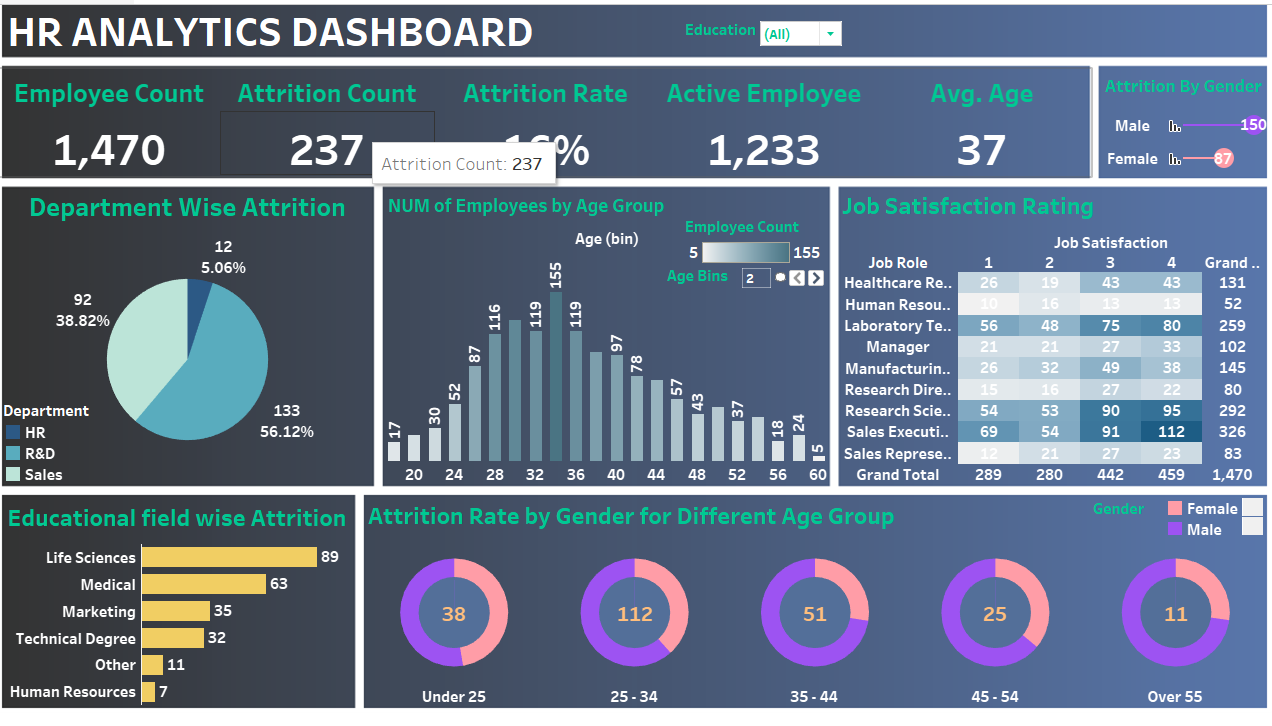

This screenshot's page, from the dashboard's own definition file:
{"tool":"tableau","page":{"name":"HR Analytics","canvas":[1300,800],"ordinal":0},"visuals":[{"type":"image","param":"C:/Users/James/OneDrive/Desktop/10alytics/week 7/HR background.png","box":[8,8,1284,784]},{"type":"text","box":[20,50,567,50]},{"type":"filter","title":"NUM of Employees by Age Group","param":"[federated.0wh2hcl0sdv5rt18eabtj17cdeod].[none:Education:nk]","box":[701,64,160,29]},{"type":"worksheet","title":"KPI","mark":"Automatic","box":[16,114,1091,107]},{"type":"worksheet","title":"Attrition by gender","mark":"Automatic","rows":["Gender"],"cols":["Calculation_702843052736970752","Calculation_702843052736970752"],"box":[1115,115,169,105]},{"type":"worksheet","title":"Department Wise Attrition","mark":"Pie","box":[18,230,371,300]},{"type":"worksheet","title":"Job Satisfaction Rating","mark":"Square","rows":["Job Role"],"cols":["Job Satisfaction"],"box":[854,230,425,300]},{"type":"worksheet","title":"NUM of Employees by Age Group","mark":"Automatic","rows":["Employee Count"],"cols":["Age (bin)"],"box":[400,233,445,298]},{"type":"legend","title":"NUM of Employees by Age Group","param":"[federated.0wh2hcl0sdv5rt18eabtj17cdeod].[sum:Employee Count:qk]","box":[701,261,140,51]},{"type":"parameter","param":"[Parameters].[Parameter 1]","box":[683,310,160,26]},{"type":"legend","title":"Department Wise Attrition","param":"[federated.0wh2hcl0sdv5rt18eabtj17cdeod].[none:Department:nk]","box":[19,445,140,85]},{"type":"worksheet","title":"Attrition Rate by Gender for Different Age Group","mark":"Pie","rows":["Calculation_854276590585409537","Calculation_854276590585409537"],"cols":["CF_age band"],"box":[380,540,902,213]},{"type":"worksheet","title":"Educational field wise Attrition","mark":"Automatic","rows":["Education Field"],"cols":["Calculation_702843052736970752"],"box":[17,542,352,208]},{"type":"legend","title":"Attrition Rate by Gender for Different Age Group","param":"[federated.0wh2hcl0sdv5rt18eabtj17cdeod].[none:Gender:nk]","box":[1109,543,172,37]}]}

Visuals, with their boxes on the page's 1300x800 design canvas (x1, y1, x2, y2). These are canvas units, not pixel positions in the 1272x726 screenshot, which may show the page scaled, cropped or inside an application window:
image: left=8, top=8, right=1292, bottom=792
text: left=20, top=50, right=587, bottom=100
"NUM of Employees by Age Group" filter: left=701, top=64, right=861, bottom=93
"KPI" worksheet: left=16, top=114, right=1107, bottom=221
"Attrition by gender" worksheet: left=1115, top=115, right=1284, bottom=220
"Department Wise Attrition" worksheet (Pie marks): left=18, top=230, right=389, bottom=530
"Job Satisfaction Rating" worksheet (Square marks): left=854, top=230, right=1279, bottom=530
"NUM of Employees by Age Group" worksheet: left=400, top=233, right=845, bottom=531
"NUM of Employees by Age Group" legend: left=701, top=261, right=841, bottom=312
parameter: left=683, top=310, right=843, bottom=336
"Department Wise Attrition" legend: left=19, top=445, right=159, bottom=530
"Attrition Rate by Gender for Different Age Group" worksheet (Pie marks): left=380, top=540, right=1282, bottom=753
"Educational field wise Attrition" worksheet: left=17, top=542, right=369, bottom=750
"Attrition Rate by Gender for Different Age Group" legend: left=1109, top=543, right=1281, bottom=580
